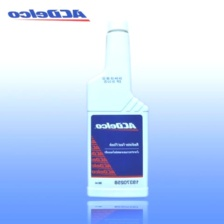cleaning_solution: (82, 14, 152, 202)
